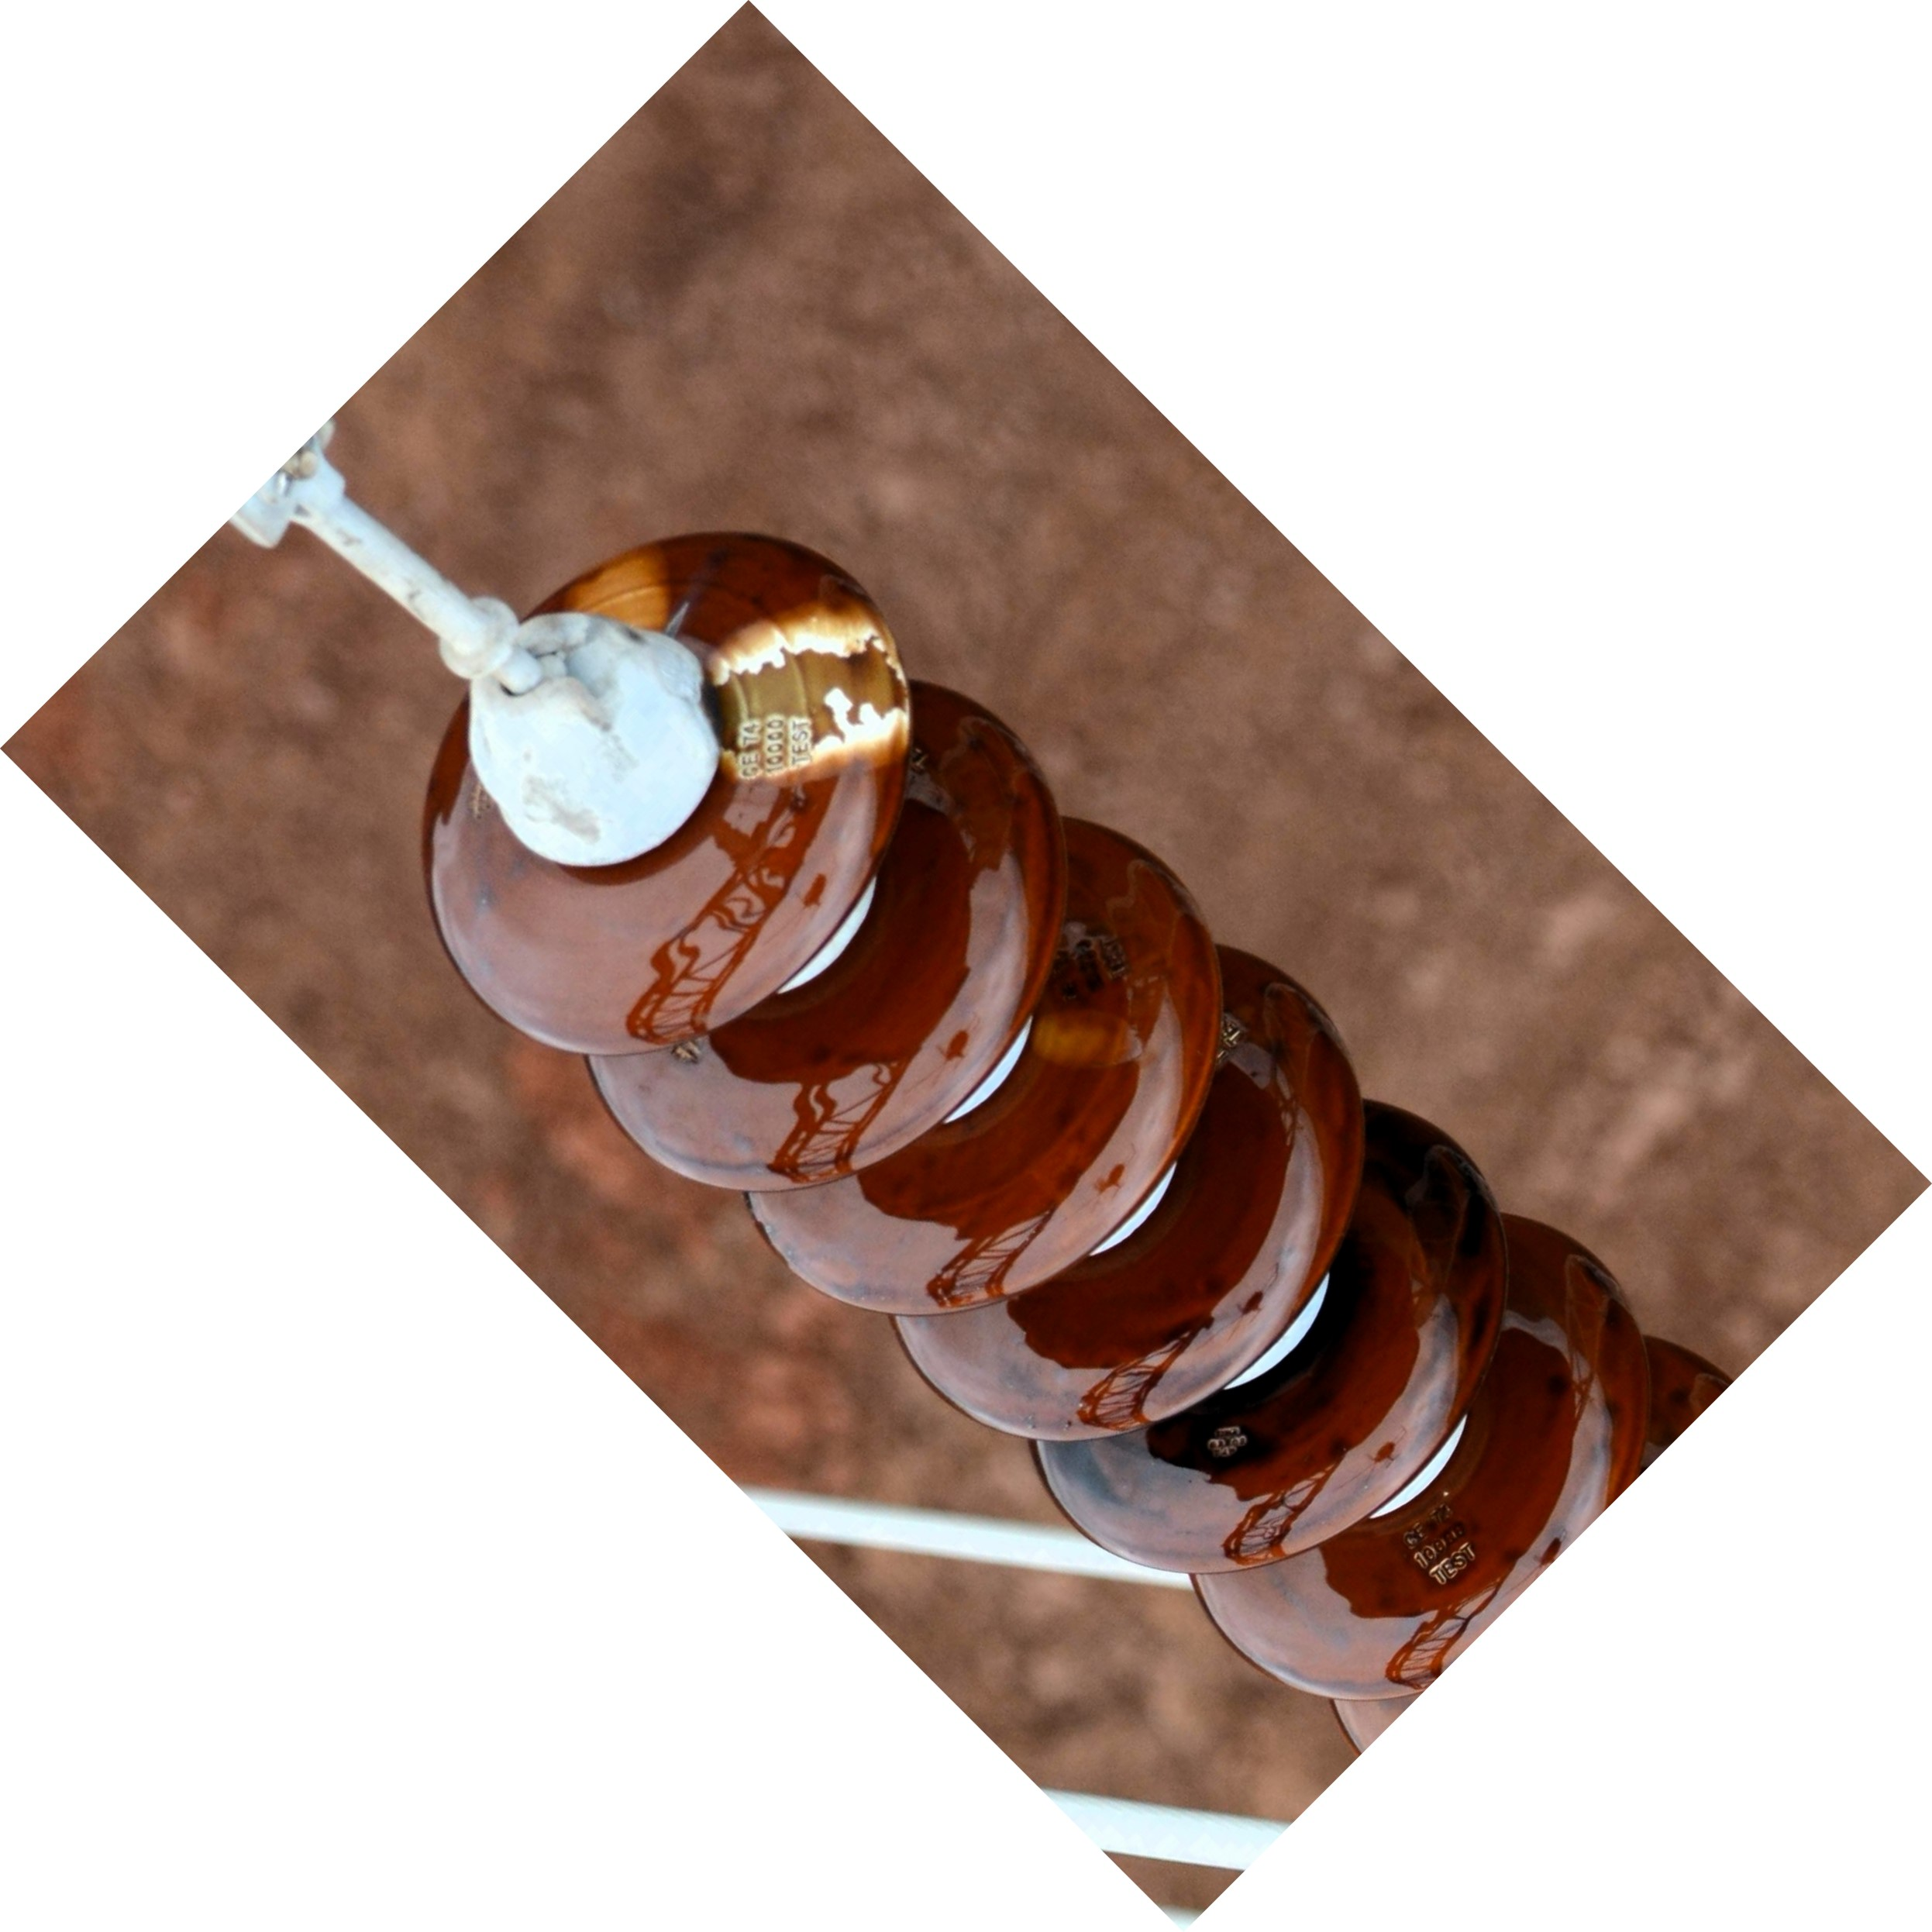Insulator flashover: (361, 520, 925, 1053)
